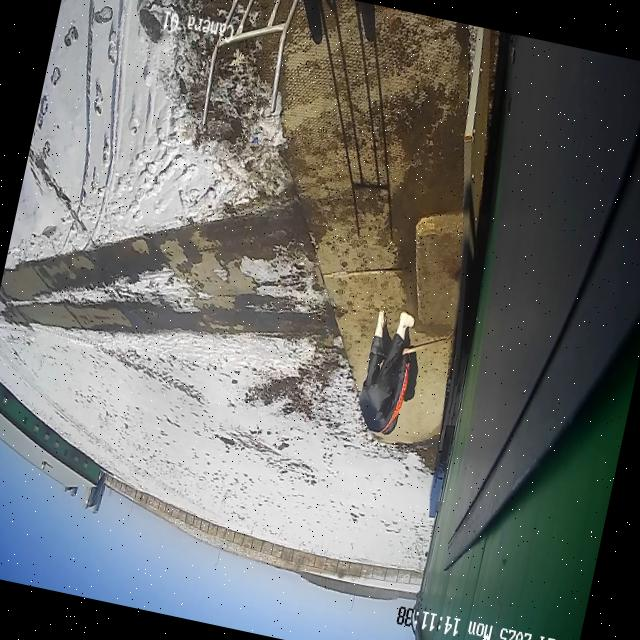Red uniform: (349, 302, 432, 442)
